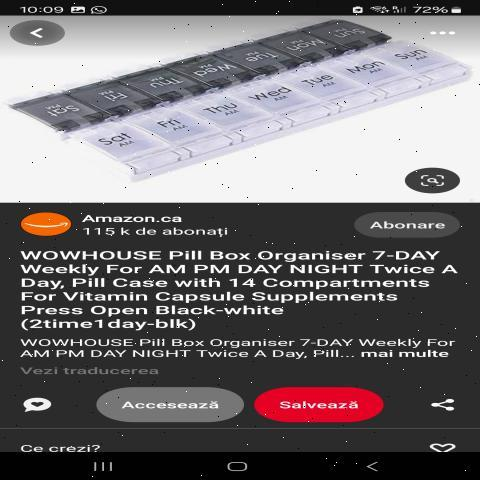PillBox: (14, 17, 480, 191)
